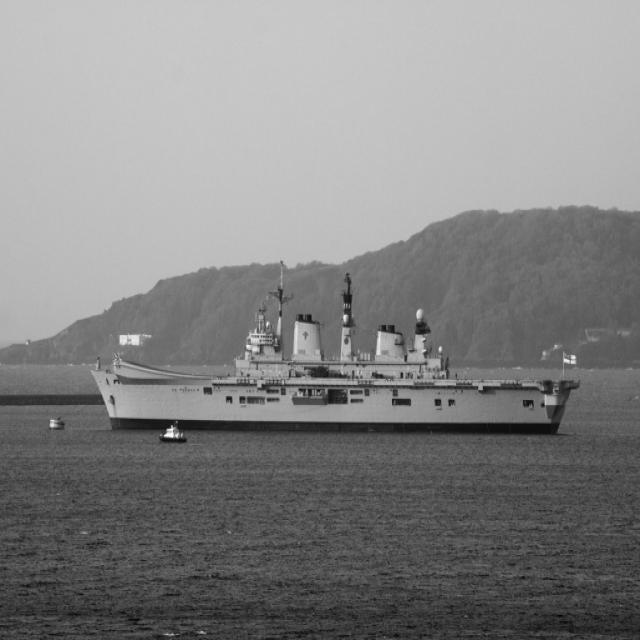Portanaves: (87, 264, 582, 438)
